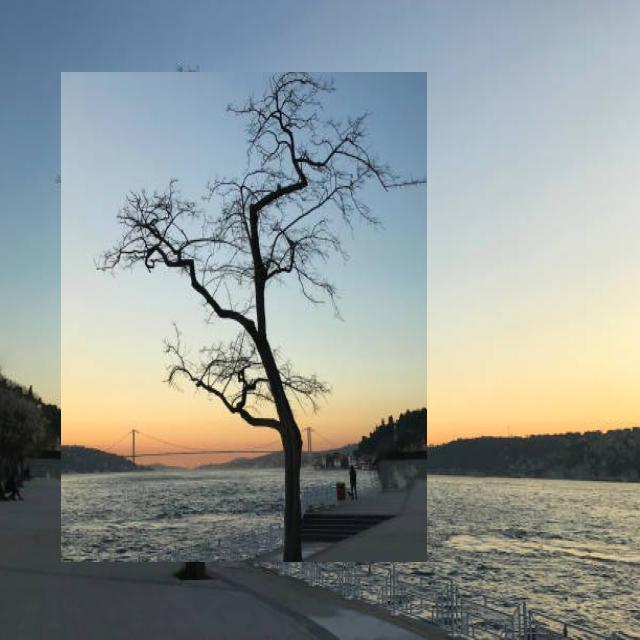tree: (61, 72, 427, 562)
